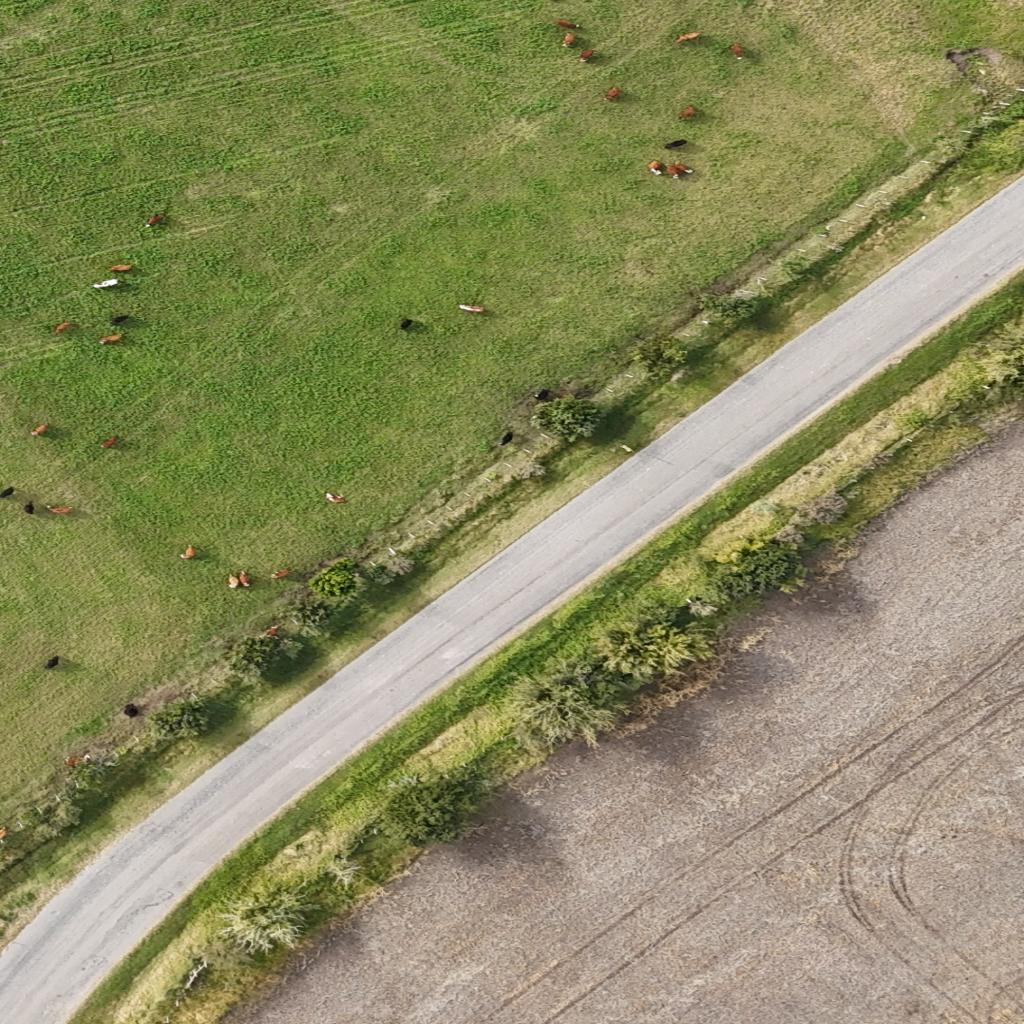cow: (647, 160, 666, 176), (578, 48, 595, 64), (678, 106, 697, 120), (325, 492, 347, 504), (554, 20, 580, 30), (674, 33, 699, 43), (64, 756, 88, 766), (663, 139, 687, 149), (30, 424, 50, 436), (93, 279, 119, 288), (533, 390, 552, 402), (124, 704, 140, 718), (498, 432, 514, 446), (100, 334, 122, 344), (147, 215, 167, 226), (180, 545, 195, 559), (45, 656, 60, 670), (730, 45, 744, 60), (605, 86, 620, 100), (239, 572, 252, 588), (102, 436, 119, 448), (55, 322, 72, 334), (47, 506, 72, 514), (108, 264, 133, 272), (667, 165, 681, 179), (560, 35, 575, 48), (264, 625, 280, 637), (110, 315, 129, 325), (272, 569, 290, 579), (0, 487, 16, 498), (398, 318, 412, 330), (24, 502, 36, 515), (465, 305, 484, 313), (679, 163, 693, 173), (228, 574, 238, 586), (0, 828, 8, 842)
